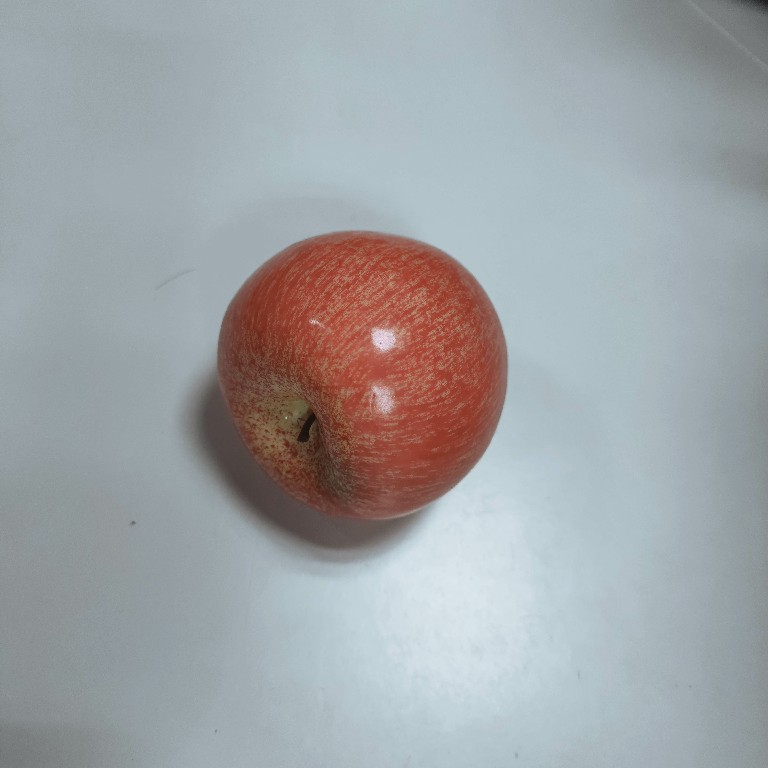fruit_apple: (210, 228, 516, 526)
